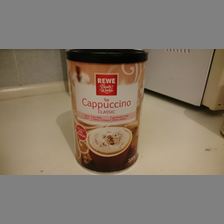coffee: (65, 50, 146, 173)
